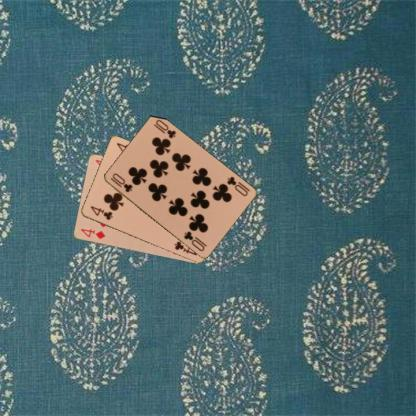10c: (108, 170, 134, 194), (224, 174, 249, 198)
4c: (88, 204, 114, 222)
4d: (78, 226, 106, 240)
